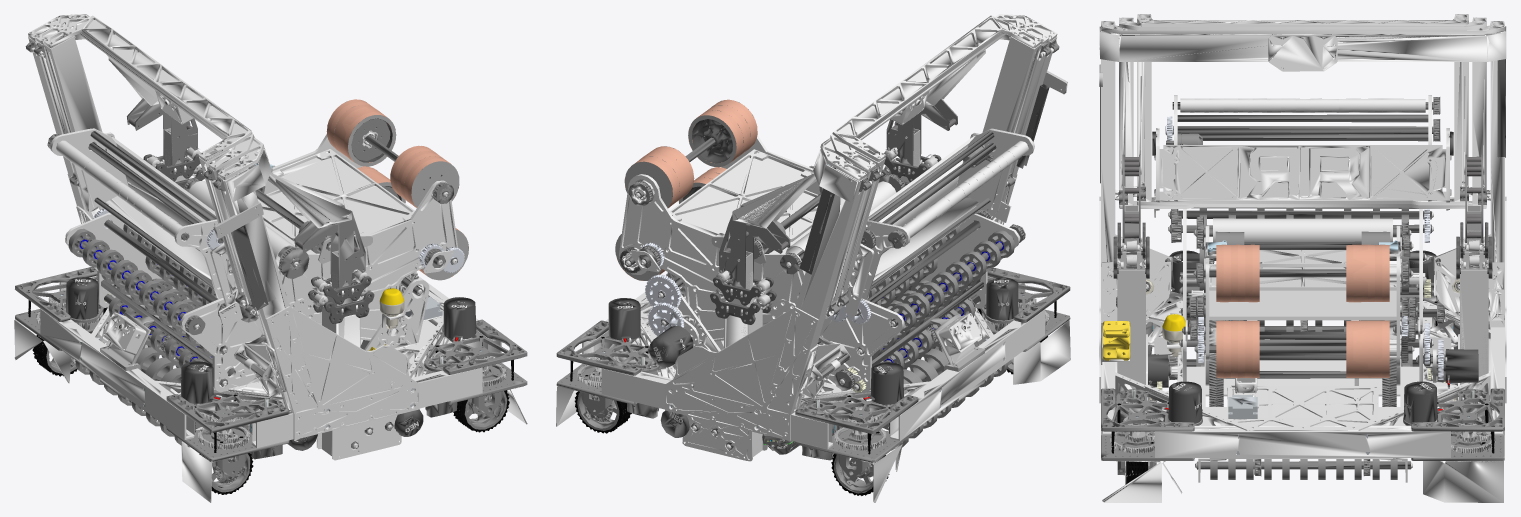
Rendered from riot-1706.glb.
The picture shows the model from 3 angles, left to right: view 1: azimuth 30°, elevation 25°; view 2: azimuth 150°, elevation 25°; view 3: azimuth 270°, elevation 25°; orthographic projection. The views are drawn at different scales.
Visible parts, largest first — view 1: frame, shooter, elevator-stage, carriage, climber, climber-mid; view 2: frame, shooter, elevator-stage, carriage, climber, climber-mid; view 3: frame, shooter, carriage, elevator-stage, climber, climber-mid.
Part boxes in pixels (x1=…): frame: x1=14, y1=14, x2=527, y2=502; shooter: x1=179, y1=99, x2=468, y2=349; elevator-stage: x1=25, y1=15, x2=286, y2=318; carriage: x1=47, y1=128, x2=242, y2=328; climber: x1=106, y1=54, x2=365, y2=294; climber-mid: x1=143, y1=147, x2=371, y2=312; frame: x1=556, y1=14, x2=1070, y2=502; shooter: x1=615, y1=99, x2=905, y2=350; elevator-stage: x1=797, y1=15, x2=1059, y2=318; carriage: x1=844, y1=128, x2=1034, y2=316; climber: x1=719, y1=50, x2=985, y2=295; climber-mid: x1=713, y1=147, x2=941, y2=312; frame: x1=1099, y1=21, x2=1506, y2=502; shooter: x1=1182, y1=216, x2=1423, y2=406; carriage: x1=1152, y1=95, x2=1453, y2=217; elevator-stage: x1=1115, y1=14, x2=1490, y2=208; climber: x1=1121, y1=76, x2=1484, y2=251; climber-mid: x1=1117, y1=222, x2=1488, y2=269.
Bounding box in the file's own units: 0.6604 × 0.6978 × 0.7176.
